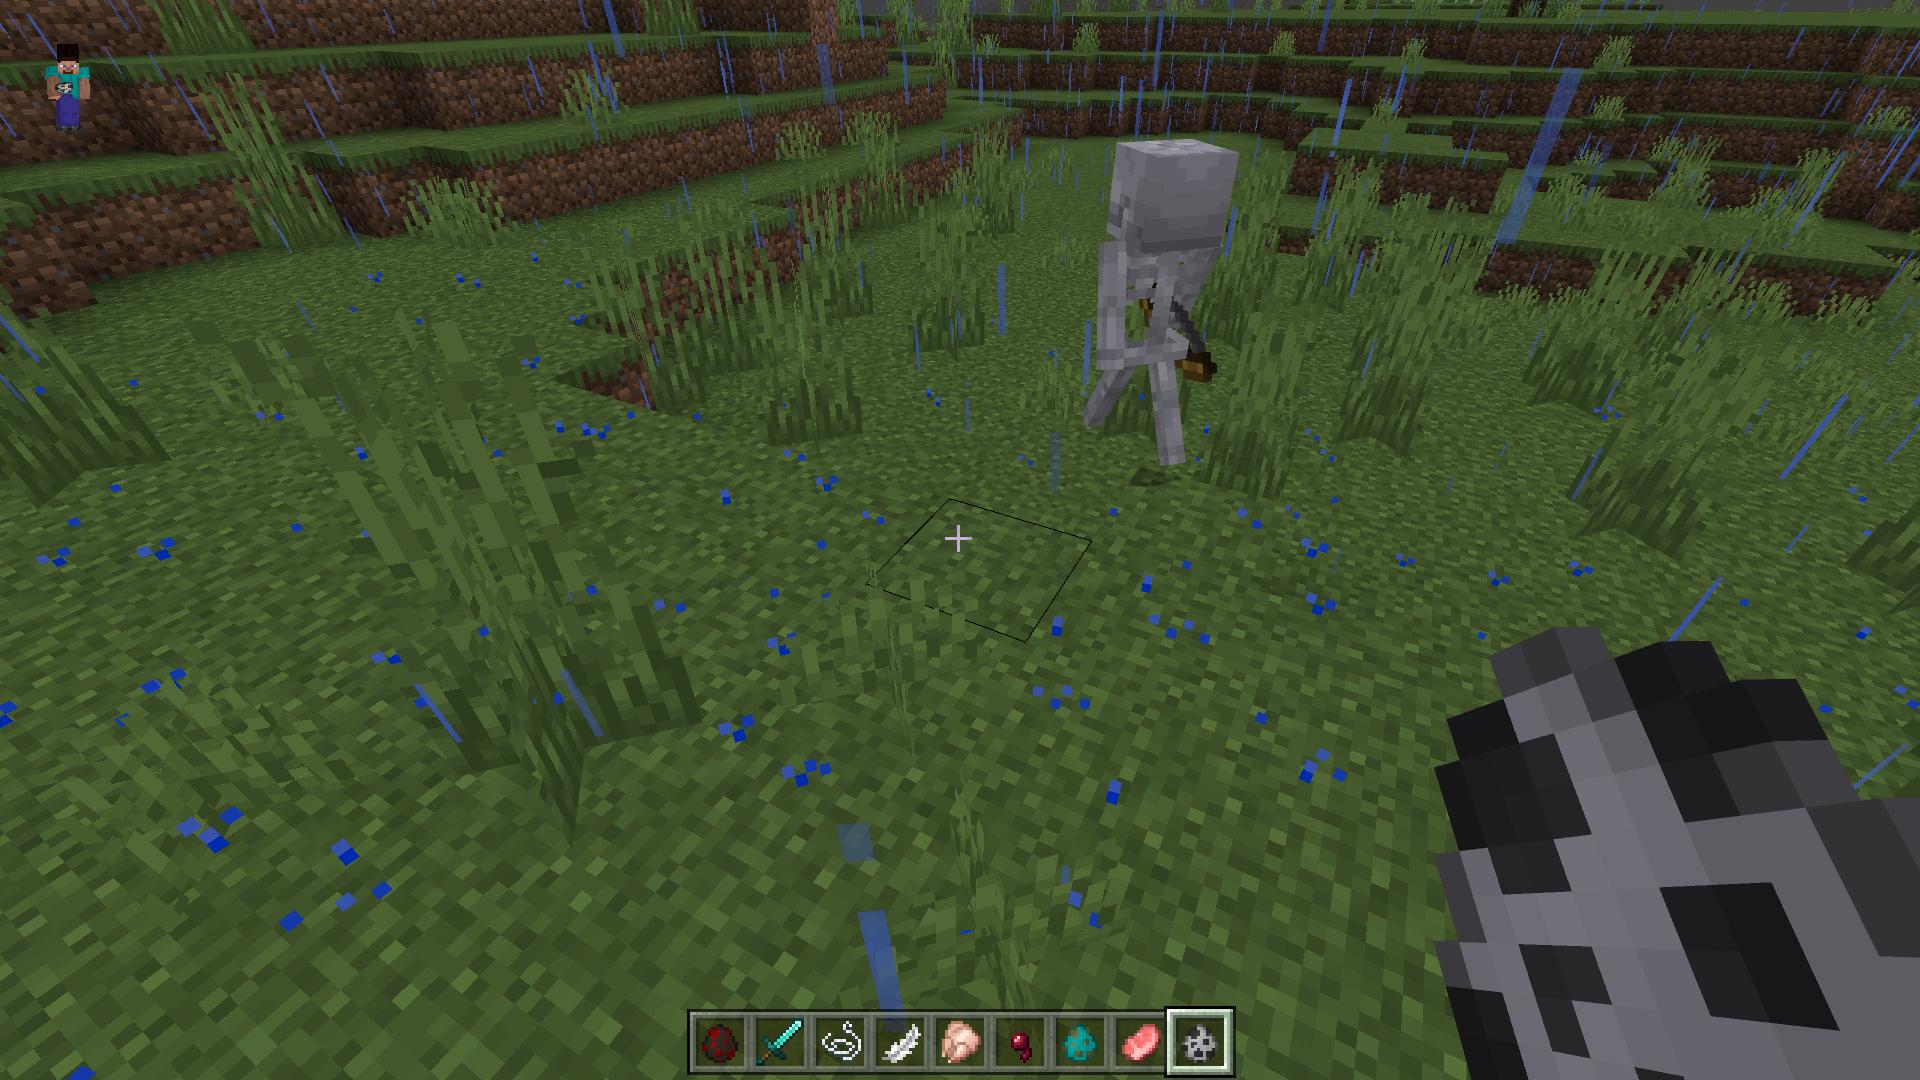skeleton: (1085, 137, 1244, 472)
